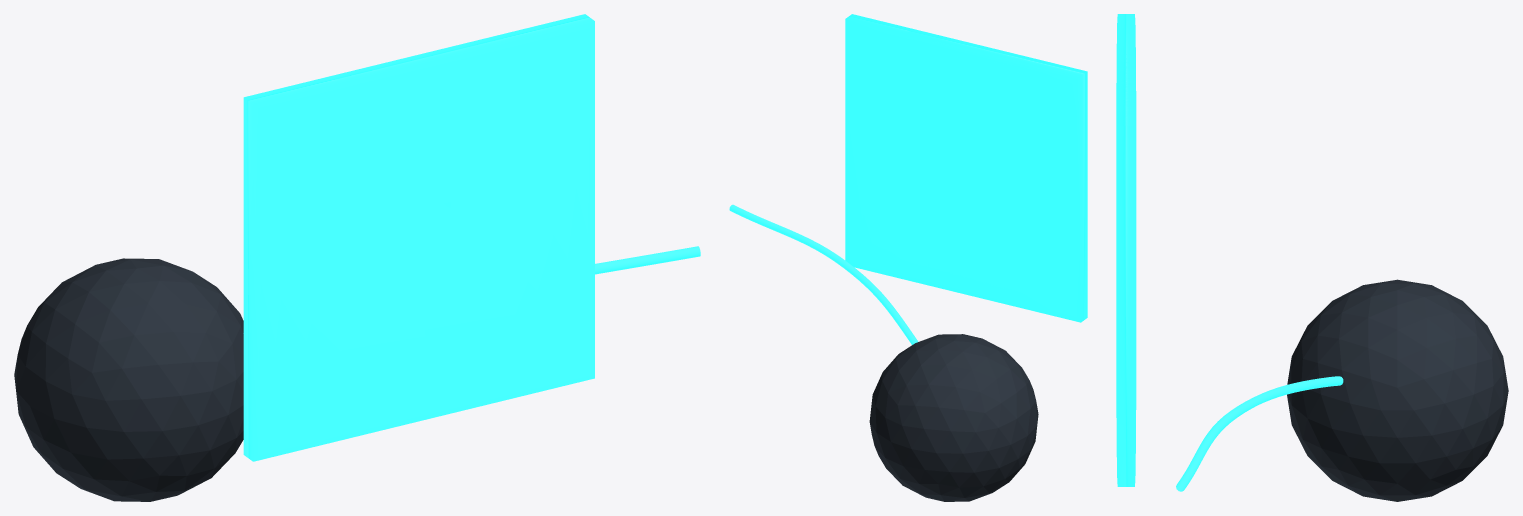
Rendered from context-core-high.glb.
3 views of the same model, side by side, from view 1: azimuth 30°, elevation 25°; view 2: azimuth 150°, elevation 25°; view 3: azimuth 270°, elevation 25° (orthographic). The views are drawn at different scales.
Parts seen in each view (by area): view 1: NL_LOGO_NX_C_02_R1_HIGH, NL_CORE_Context_A_HIGH, NL_ROUTE_Primary_01_HIGH; view 2: NL_LOGO_NX_C_02_R1_HIGH, NL_CORE_Context_A_HIGH, NL_ROUTE_Primary_01_HIGH; view 3: NL_CORE_Context_A_HIGH, NL_LOGO_NX_C_02_R1_HIGH, NL_ROUTE_Primary_01_HIGH.
Part boxes in pixels (left/top/right/bottom): NL_LOGO_NX_C_02_R1_HIGH: left=243, top=14, right=594, bottom=461; NL_CORE_Context_A_HIGH: left=14, top=258, right=243, bottom=501; NL_ROUTE_Primary_01_HIGH: left=595, top=246, right=700, bottom=274; NL_LOGO_NX_C_02_R1_HIGH: left=845, top=14, right=1087, bottom=322; NL_CORE_Context_A_HIGH: left=869, top=334, right=1038, bottom=501; NL_ROUTE_Primary_01_HIGH: left=729, top=204, right=918, bottom=344; NL_CORE_Context_A_HIGH: left=1287, top=279, right=1508, bottom=501; NL_LOGO_NX_C_02_R1_HIGH: left=1116, top=14, right=1136, bottom=486; NL_ROUTE_Primary_01_HIGH: left=1176, top=376, right=1343, bottom=491.
Bounding box in the file's own units: 4.23 × 3.75 × 2.89.
